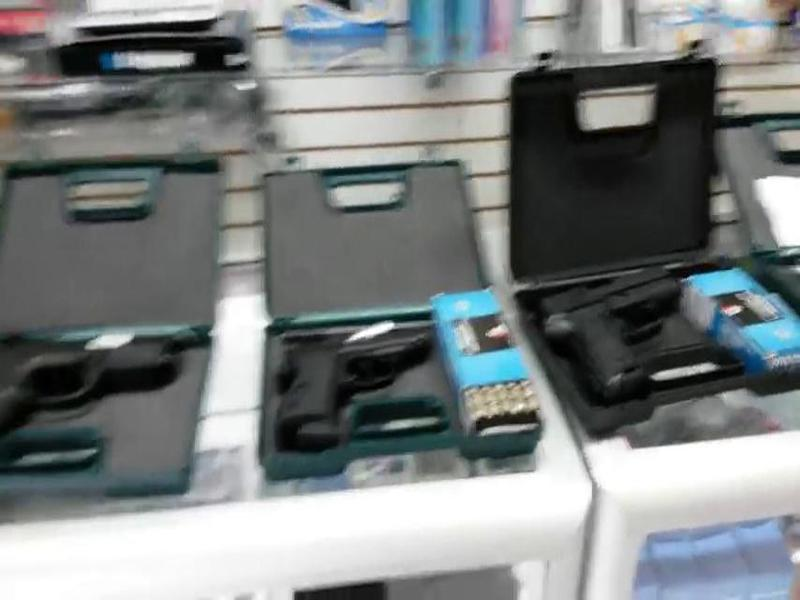Pistola: (271, 330, 439, 450)
